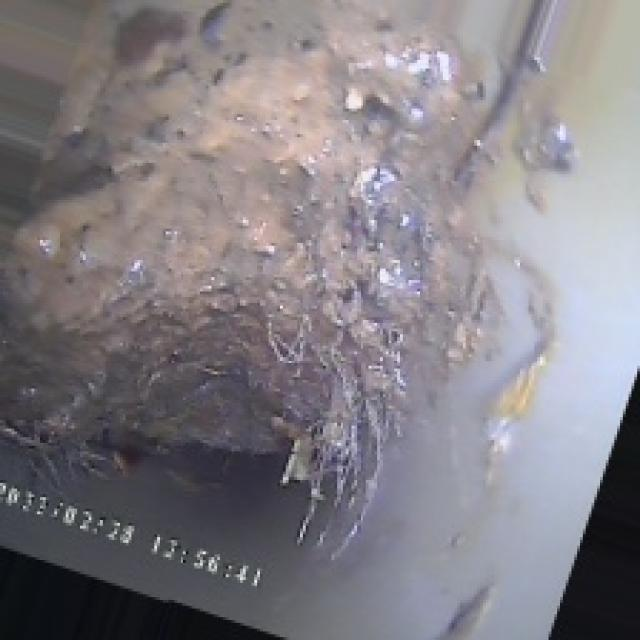sluge accumulation: (49, 54, 517, 512)
